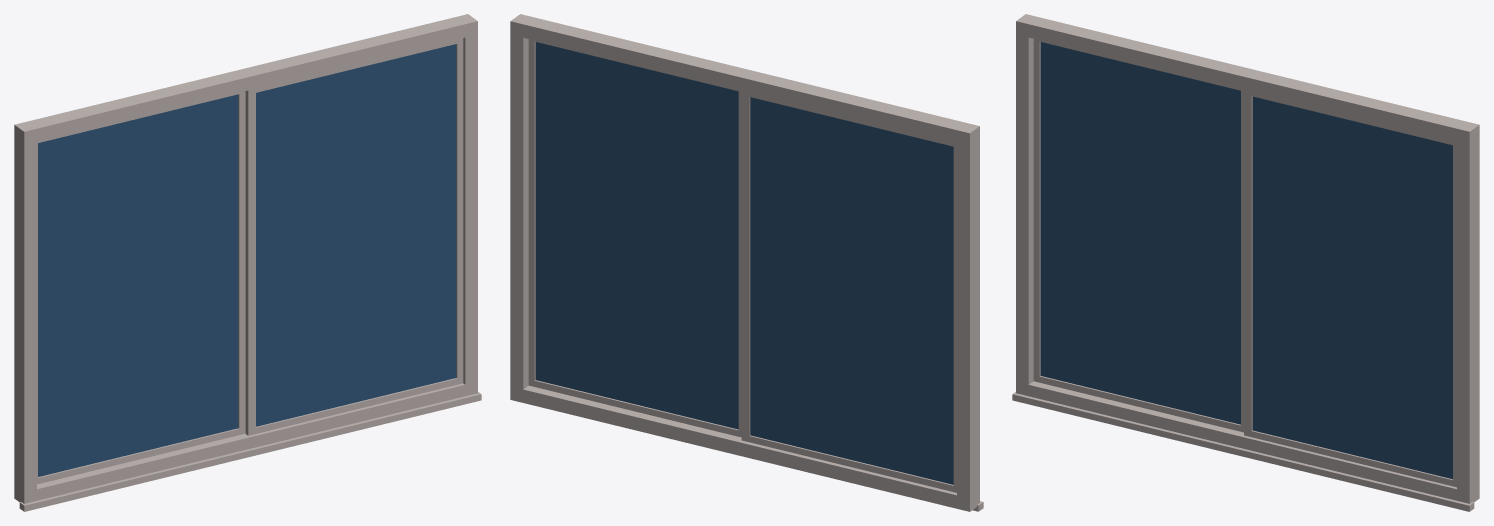
Rendered from SM_Opening_Window25620_01.gltf.
The picture shows the model from 3 angles, left to right: view 1: azimuth 30°, elevation 25°; view 2: azimuth 150°, elevation 25°; view 3: azimuth 330°, elevation 25°; orthographic projection.
Parts seen in each view (by area): view 1: SM_Opening_Window25620_01; view 2: SM_Opening_Window25620_01; view 3: SM_Opening_Window25620_01.
Part boxes in pixels (x1=…): SM_Opening_Window25620_01: x1=14, y1=14, x2=481, y2=511; SM_Opening_Window25620_01: x1=510, y1=14, x2=983, y2=511; SM_Opening_Window25620_01: x1=1012, y1=14, x2=1479, y2=511.
Size of the model in its own units: 2.7 by 2.13 by 0.12.
1 material, 1 textured.
